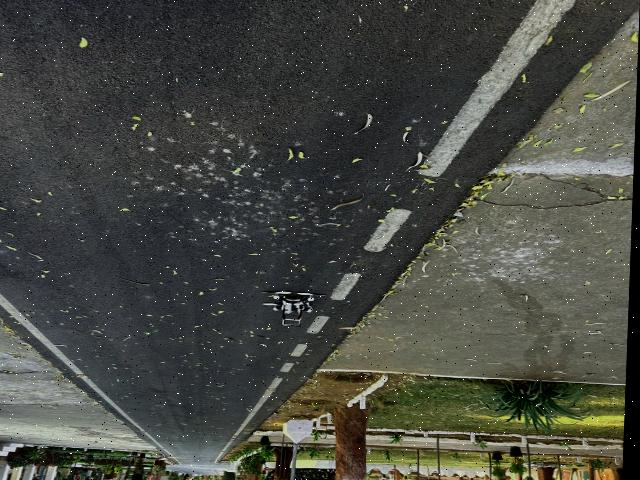drone: (243, 274, 351, 344)
